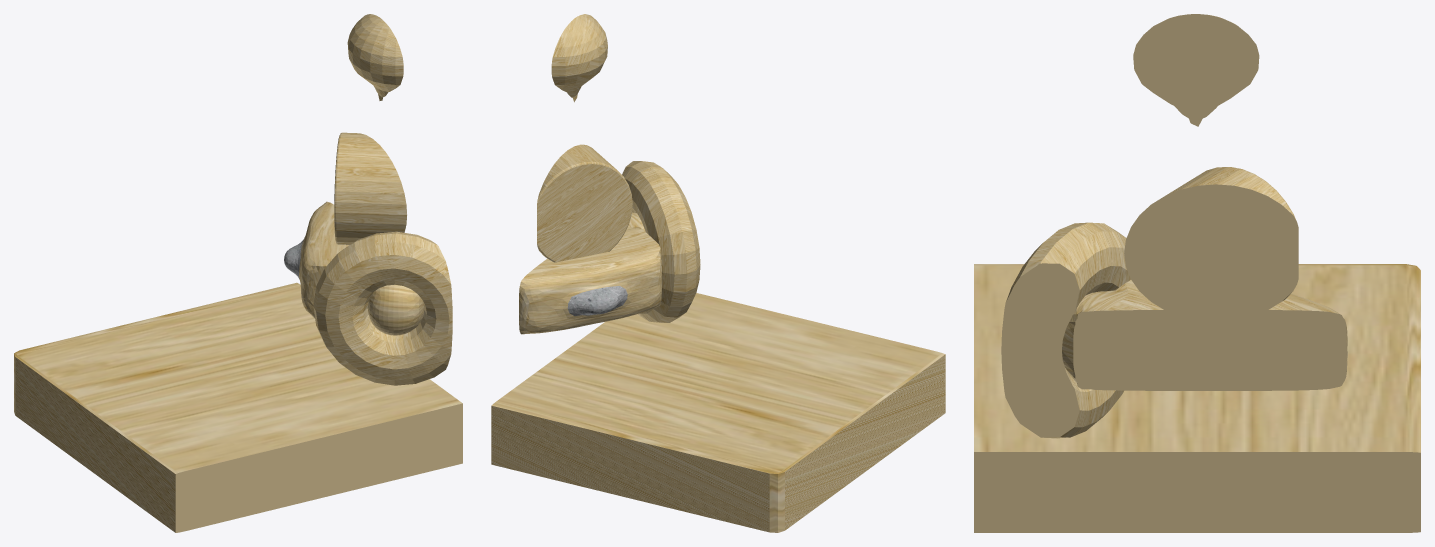
The model's file is 0_Holzbahn.fbx.
3 views of the same model, side by side, from view 1: azimuth 30°, elevation 25°; view 2: azimuth 150°, elevation 25°; view 3: azimuth 270°, elevation 25° (orthographic). The views are drawn at different scales.
Visible parts, largest first — view 1: Cube.009, Cube.020, Cube.018, Cube.021, Cube.019; view 2: Cube.009, Cube.021, Cube.018, Cube.020, Cube.019; view 3: Cube.009, Cube.021, Cube.018, Cube.020, Cube.019.
Part boxes in pixels (box(x1,y1,x2,y2)): Cube.009: box(14, 282, 462, 532); Cube.020: box(313, 231, 452, 385); Cube.018: box(334, 132, 406, 244); Cube.021: box(284, 201, 424, 335); Cube.019: box(347, 14, 403, 100); Cube.009: box(491, 293, 945, 532); Cube.021: box(519, 212, 661, 334); Cube.018: box(537, 144, 632, 262); Cube.020: box(622, 161, 700, 322); Cube.019: box(551, 14, 607, 102); Cube.009: box(974, 264, 1420, 532); Cube.021: box(1062, 280, 1347, 390); Cube.018: box(1124, 167, 1298, 321); Cube.020: box(1001, 222, 1130, 438); Cube.019: box(1133, 14, 1259, 126).
Bounding box in the file's own units: 500 × 641 × 500.
